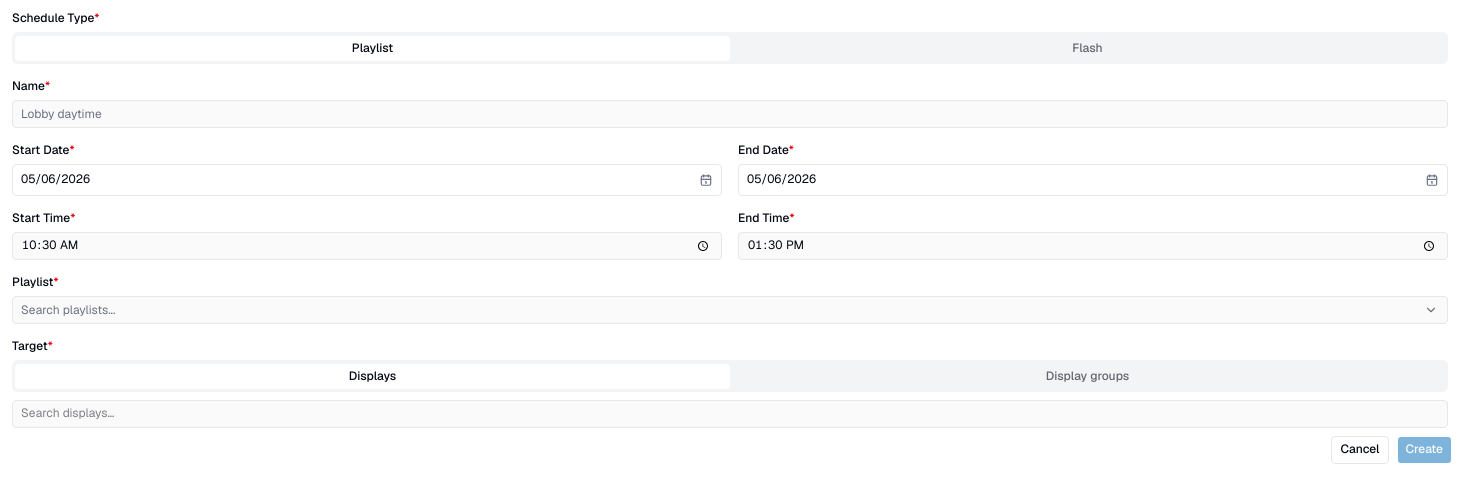
it: CreateScheduleForm › shows playlist options in the searchable combobox
The width and height of the screenshot is (1464, 481).
Click the dropdown labelled "Playlist" at (716,310), box [13, 296, 1419, 324]
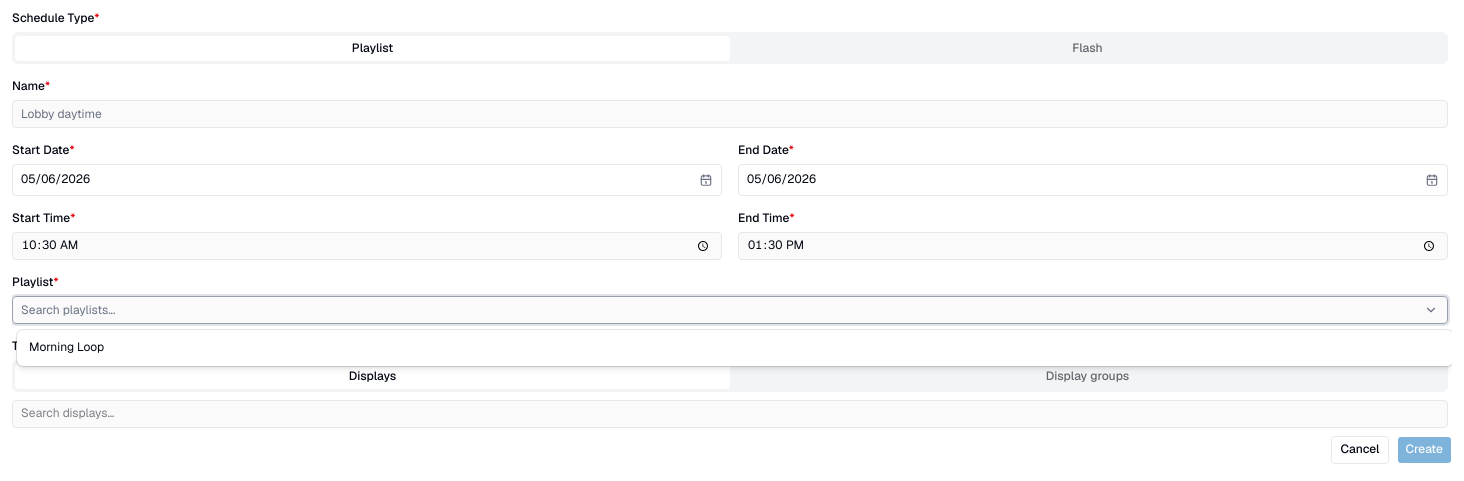
Check: the option "Morning Loop" is shown, box [29, 339, 104, 355]
